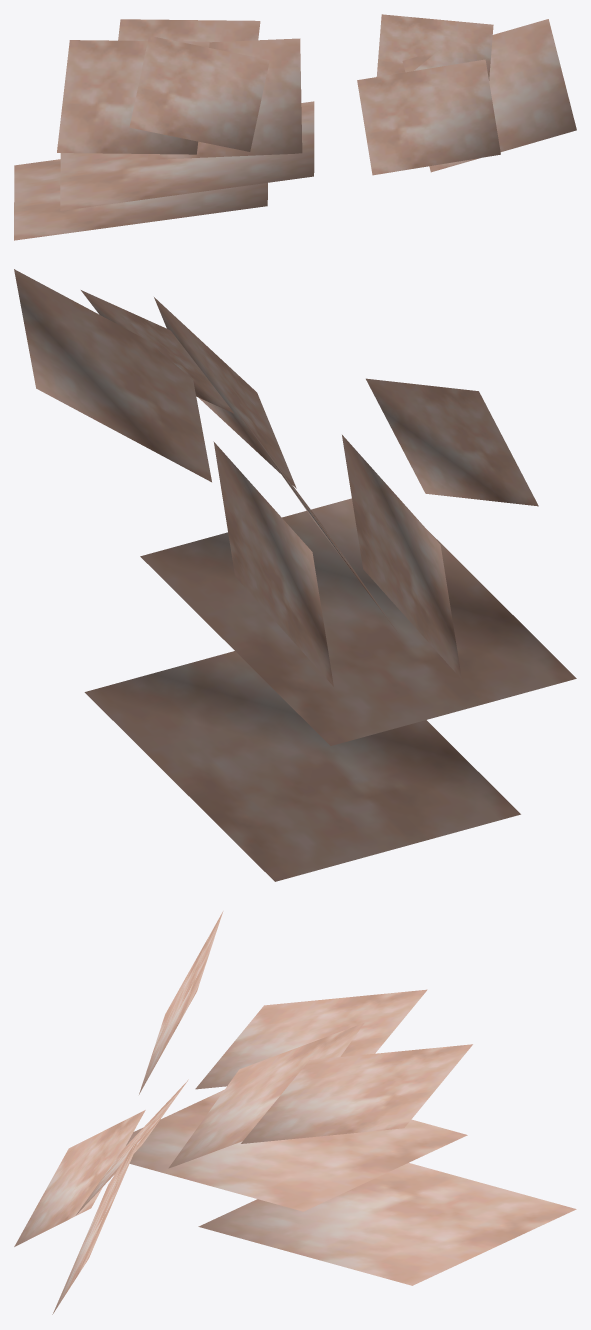
Rendered from stg220_MotCloud_14.obj.
The picture shows the model from 3 angles, top to bottom: view 1: azimuth 30°, elevation 25°; view 2: azimuth 150°, elevation 25°; view 3: azimuth 270°, elevation 25°; orthographic projection. The views are drawn at different scales.
Visible parts, largest first — view 1: polygon1, polygon3, polygon6, polygon4, polygon2, polygon7, polygon5, polygon0, polygon8; view 2: polygon7, polygon6, polygon2, polygon3, polygon8, polygon4, polygon1, polygon0; view 3: polygon7, polygon6, polygon8, polygon4, polygon5, polygon1, polygon3, polygon2, polygon0.
Boxes of the visible parts, x1,y1,x2,y2 form: polygon1: [357, 59, 500, 175]; polygon3: [129, 35, 269, 151]; polygon6: [60, 101, 314, 210]; polygon4: [57, 40, 209, 154]; polygon2: [402, 19, 576, 172]; polygon7: [14, 159, 267, 240]; polygon5: [148, 38, 302, 159]; polygon0: [376, 14, 493, 80]; polygon8: [118, 19, 260, 42]; polygon7: [84, 651, 520, 881]; polygon6: [140, 498, 576, 745]; polygon2: [14, 269, 211, 482]; polygon3: [366, 378, 538, 506]; polygon8: [213, 441, 333, 686]; polygon4: [342, 435, 461, 679]; polygon1: [154, 297, 296, 488]; polygon0: [81, 290, 234, 413]; polygon7: [198, 1163, 576, 1285]; polygon6: [126, 1089, 467, 1211]; polygon8: [241, 1044, 472, 1143]; polygon4: [195, 989, 427, 1089]; polygon5: [168, 1023, 364, 1168]; polygon1: [14, 1110, 145, 1246]; polygon3: [139, 911, 223, 1094]; polygon2: [52, 1142, 136, 1314]; polygon0: [76, 1079, 188, 1214].
Size of the model in its own units: 2695 by 1330 by 2273.
1 material, 1 textured.
